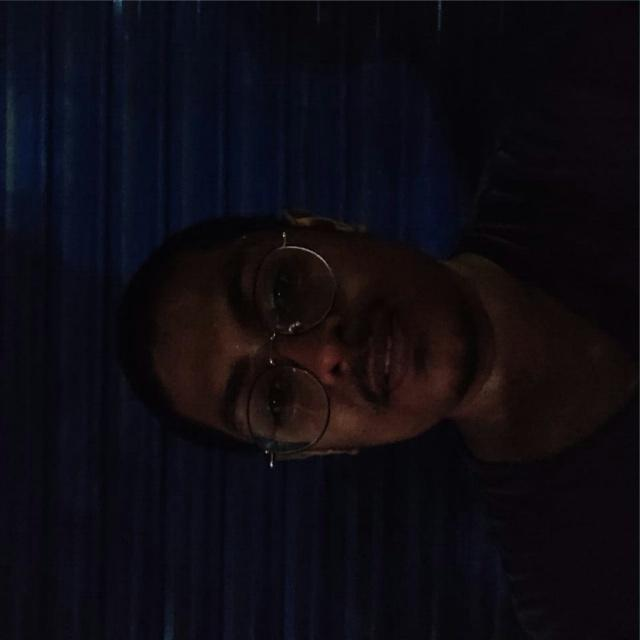Natural: (117, 173, 518, 500)
